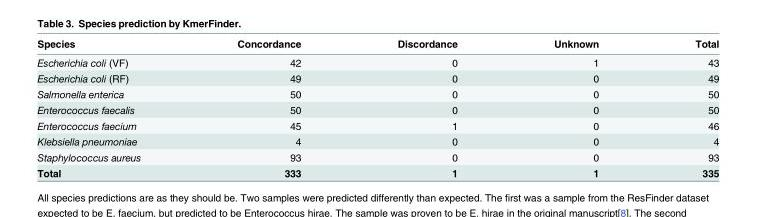table: (36, 37, 718, 178)
table column: (188, 37, 348, 178), (348, 37, 504, 178), (36, 37, 188, 178), (504, 37, 646, 178), (646, 37, 718, 178)
table column header: (36, 37, 718, 52)
table row: (36, 52, 718, 70), (36, 85, 718, 101), (36, 101, 718, 117), (36, 117, 718, 133), (36, 133, 718, 149), (36, 37, 718, 52), (36, 70, 718, 85), (36, 149, 718, 164), (36, 164, 718, 178)
